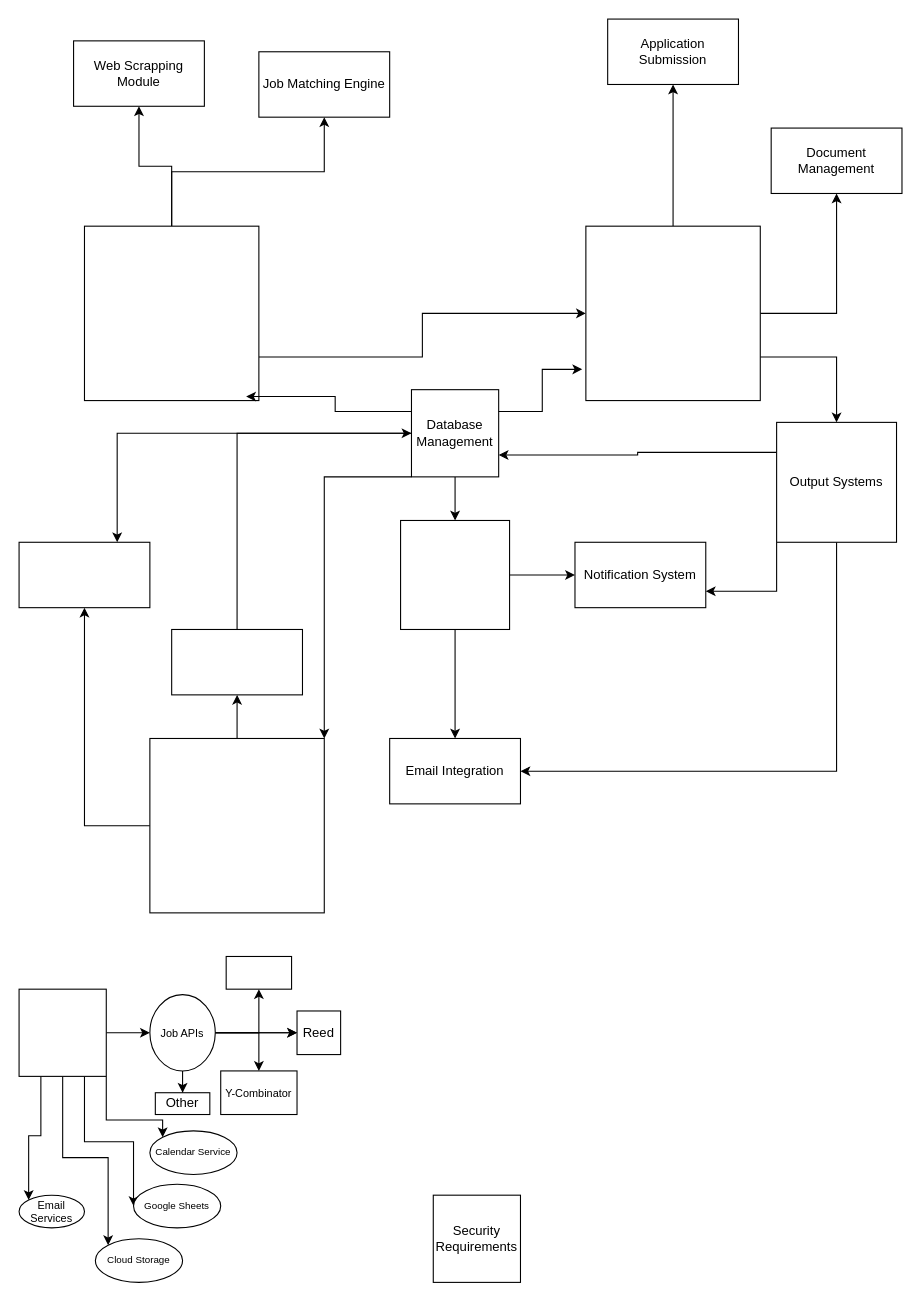
Image size: 921x1301. Some labels were removed from this diagram. Here are the shapes that lost their labels. From the top down, the centre of each, then its label:
At [171,313]: "Job Search and Discovery".
At [672,313]: "Application Processing".
At [84,574]: "Setting Management".
At [454,574]: "Communication Management".
At [236,661]: "Dashboard".
At [236,825]: "User Interface".
At [258,972]: "Indeed".
At [62,1032]: "Integration Requirements".
